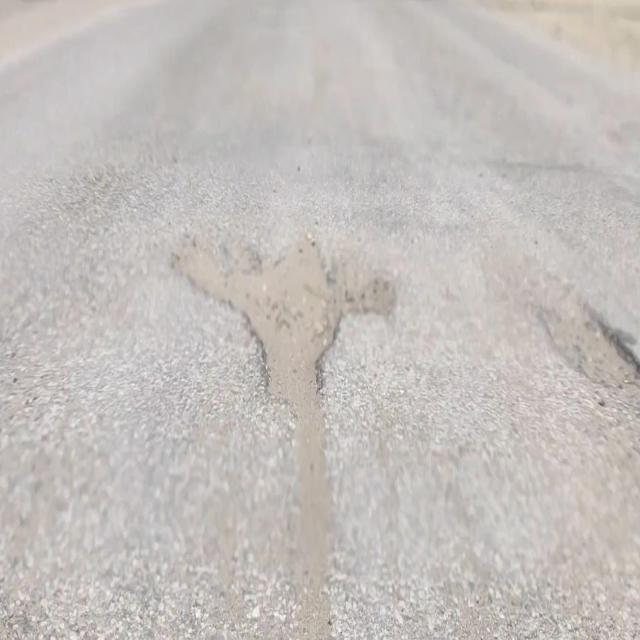Potholes: (169, 222, 396, 414), (540, 305, 640, 392)
